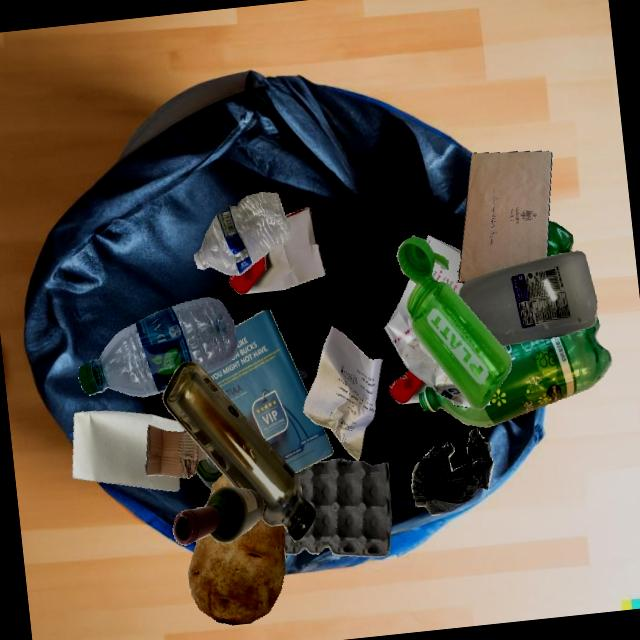biowaste: (188, 518, 285, 624)
cardboard: (284, 457, 391, 556), (144, 424, 206, 478)
glass: (162, 361, 315, 541), (173, 485, 264, 545), (195, 454, 222, 489)
paper: (207, 309, 333, 472), (458, 151, 551, 282), (303, 326, 382, 460), (405, 290, 490, 405), (384, 299, 472, 407), (72, 410, 185, 491), (229, 207, 325, 294), (388, 369, 431, 403)
plastic: (419, 315, 611, 427), (396, 235, 511, 409), (78, 296, 237, 396), (458, 250, 597, 346), (194, 191, 292, 275), (411, 426, 493, 515), (547, 220, 573, 256)
